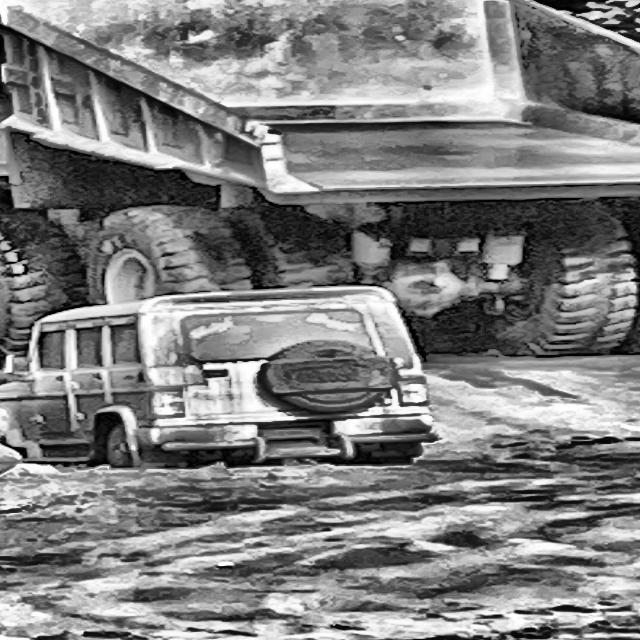dump_truck: (0, 0, 640, 344)
light_vehicle: (0, 268, 436, 478)
